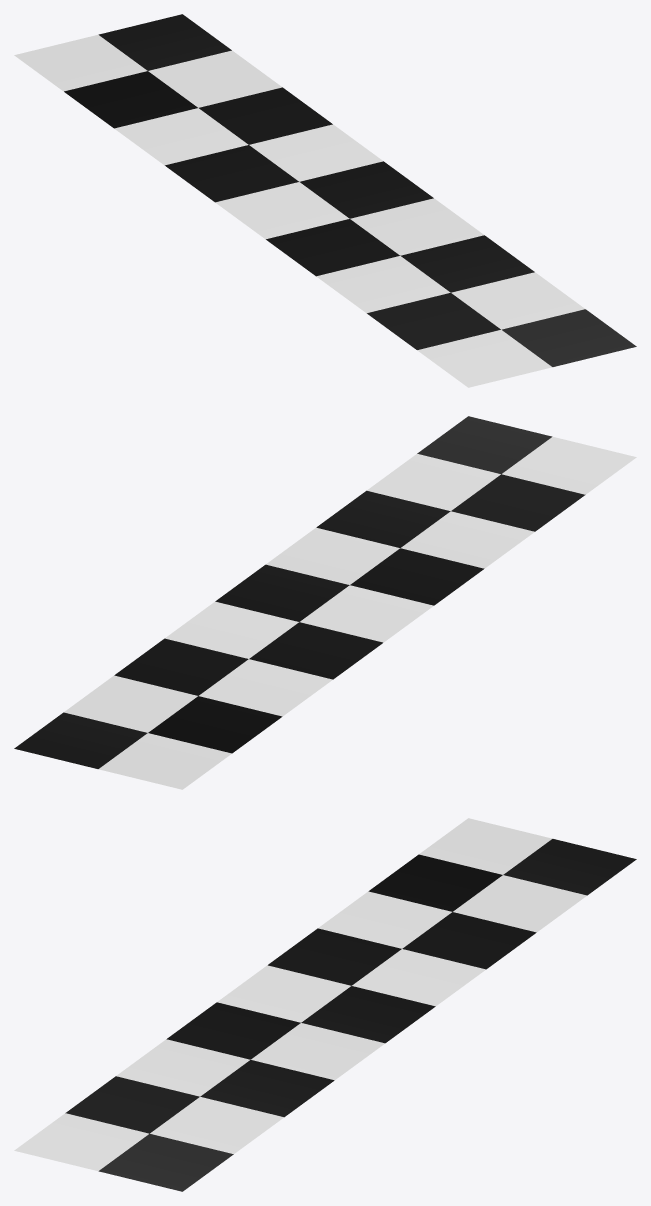
File: finish line.fbx
The picture shows the model from 3 angles, top to bottom: view 1: azimuth 30°, elevation 25°; view 2: azimuth 150°, elevation 25°; view 3: azimuth 330°, elevation 25°; orthographic projection.
Visible parts, largest first — view 1: end line; view 2: end line; view 3: end line.
Boxes of the visible parts, bbox=[...] form: end line: bbox=[14, 14, 636, 387]; end line: bbox=[14, 416, 636, 789]; end line: bbox=[14, 818, 636, 1191].
Size of the model in its own units: 200 by 3.02e-05 by 934.
Materials: 1 (1 with a texture image).
